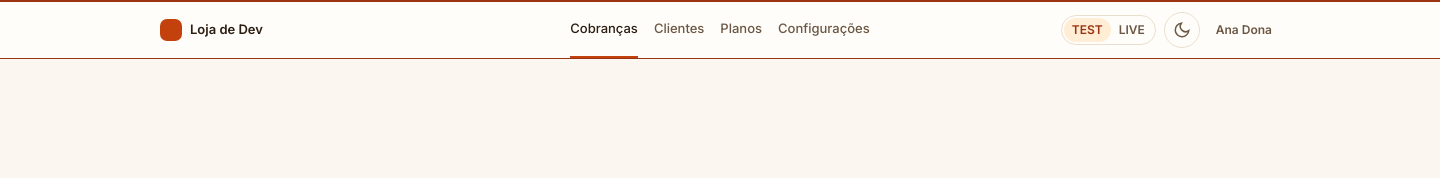
Test: AppLayout header › showsTheStoreTheNavTheSwitchTheThemeAndWhoIsIn
The width and height of the screenshot is (1440, 178).
expect the element named "Ambiente" is shown: met, box [1061,15,1156,45]
expect the button named "Alternar tema" is shown: met, box [1164,12,1200,48]
Click the button "Ana Dona" at (1244, 30), box [1208,18,1280,42]
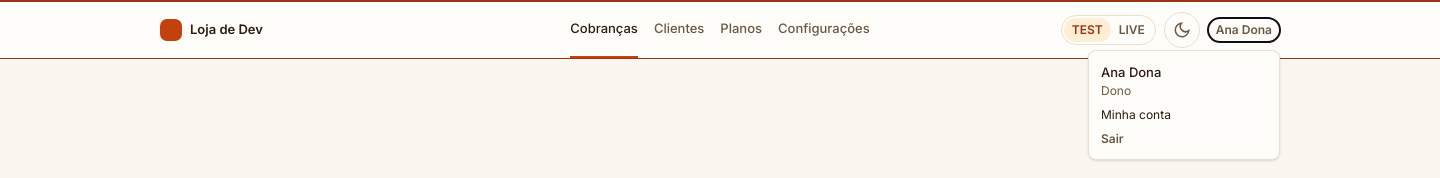
expect the text "Dono" is shown: met, box [1101,82,1131,98]
